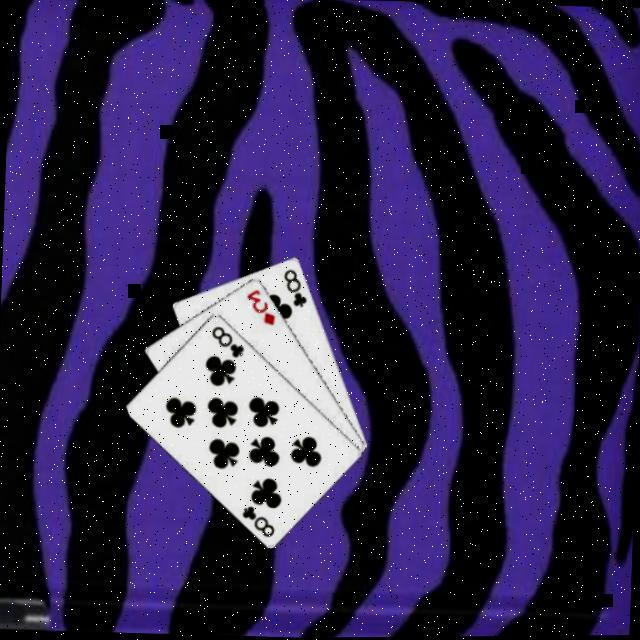3D: (242, 283, 277, 326)
8C: (206, 320, 246, 358), (237, 500, 277, 538), (278, 263, 309, 308)
